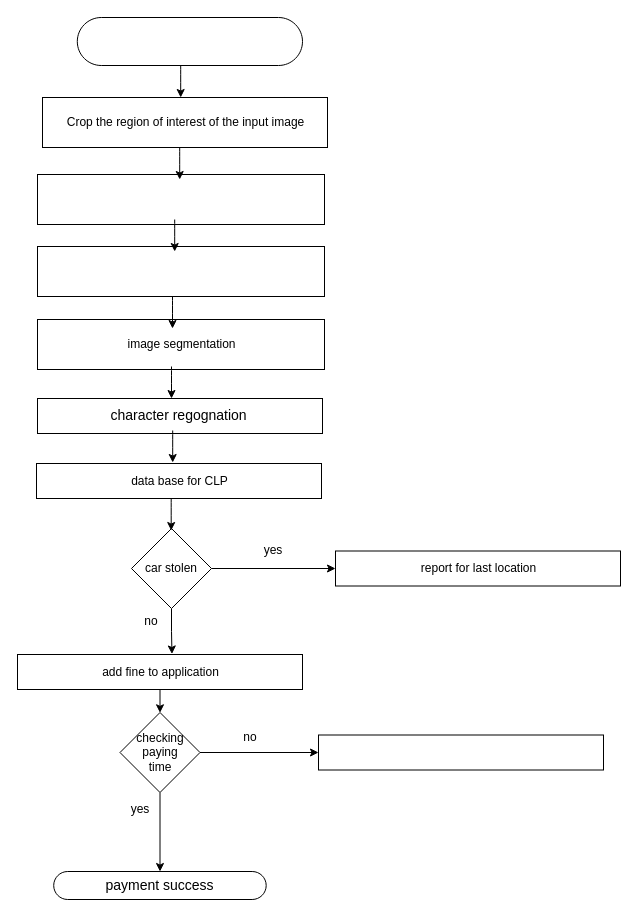
Some shapes in this 638 by 917 pixel diagram are drawn without their labels. The shapes that lost their labels are listed below. From the top down, each one's centre as x and y in pixels, then its label:
At (x=189, y=41): "Take input image from a live camera".
At (x=180, y=199): "Image Wrapping (Based on the angel of the camera)".
At (x=180, y=271): "Start detection using YOLOv7".
At (x=461, y=752): "add more fine for latency".
